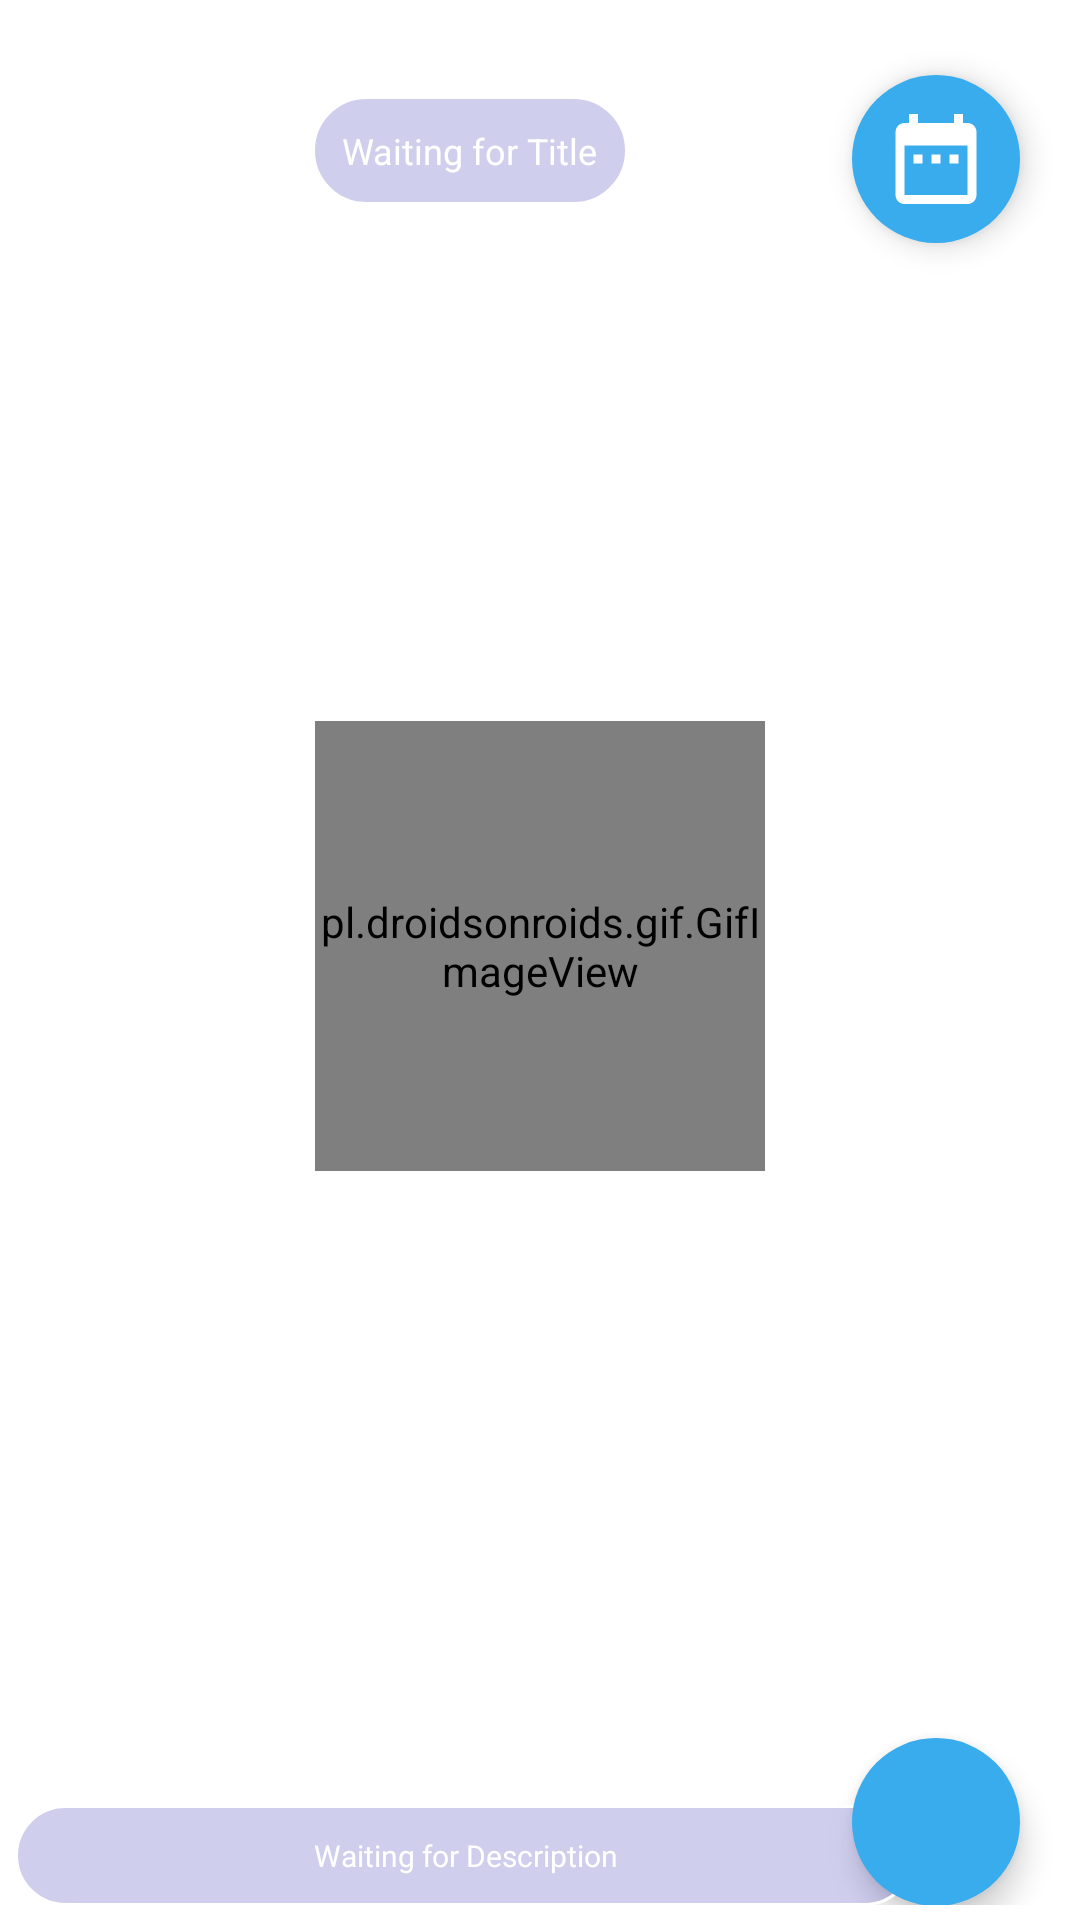

Icon click points for this 1080w x 1920h phone screenshot, format point (x, y):
date range: point (936, 159)
